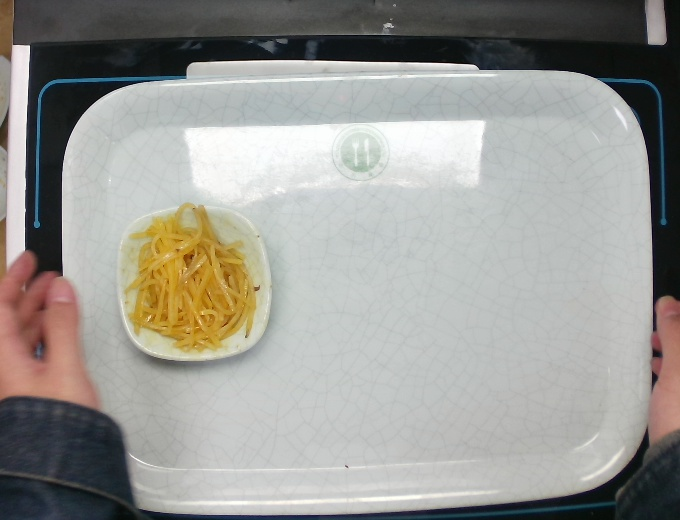JYsf-Si_Fang_Die: (112, 201, 276, 367)
